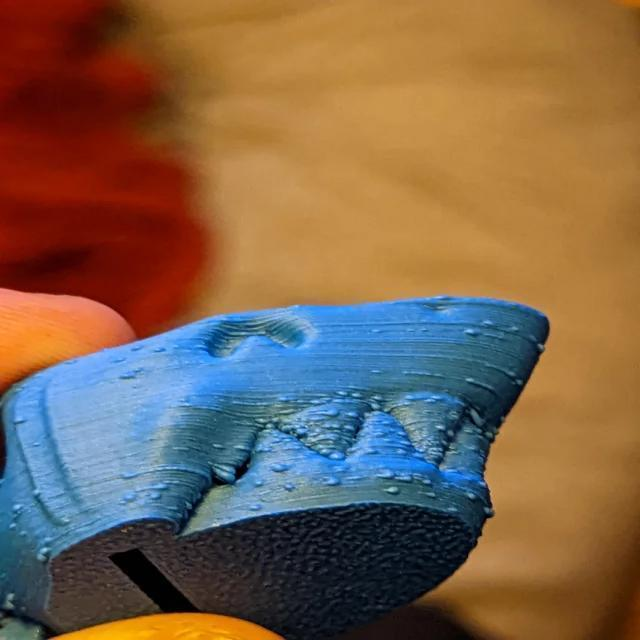blobs: (214, 460, 242, 484), (31, 544, 54, 568), (266, 460, 290, 476), (115, 468, 142, 482), (322, 448, 346, 463), (118, 490, 141, 503), (374, 481, 397, 494), (477, 502, 497, 516), (346, 386, 367, 399), (115, 369, 136, 382), (462, 327, 485, 338), (334, 387, 354, 399), (306, 397, 326, 409), (146, 491, 166, 503), (247, 478, 267, 490), (318, 476, 342, 486), (367, 398, 385, 411), (242, 503, 263, 514), (214, 442, 233, 454), (480, 316, 498, 328), (371, 390, 389, 402), (278, 482, 297, 493), (465, 488, 481, 501), (150, 344, 170, 354), (294, 425, 308, 439), (29, 489, 44, 502), (375, 468, 393, 478), (423, 486, 438, 498), (394, 446, 409, 458), (10, 500, 26, 511), (398, 474, 415, 484), (434, 421, 446, 435), (328, 407, 343, 418), (130, 342, 145, 353), (508, 322, 522, 333), (263, 421, 277, 432), (11, 415, 28, 424), (236, 443, 253, 452), (345, 409, 361, 418), (274, 394, 292, 402), (364, 448, 380, 457), (152, 482, 172, 489), (482, 432, 496, 441), (420, 476, 435, 484), (342, 422, 354, 432), (370, 432, 385, 440), (394, 430, 409, 438), (269, 417, 285, 424), (536, 342, 546, 351), (399, 439, 411, 446)
